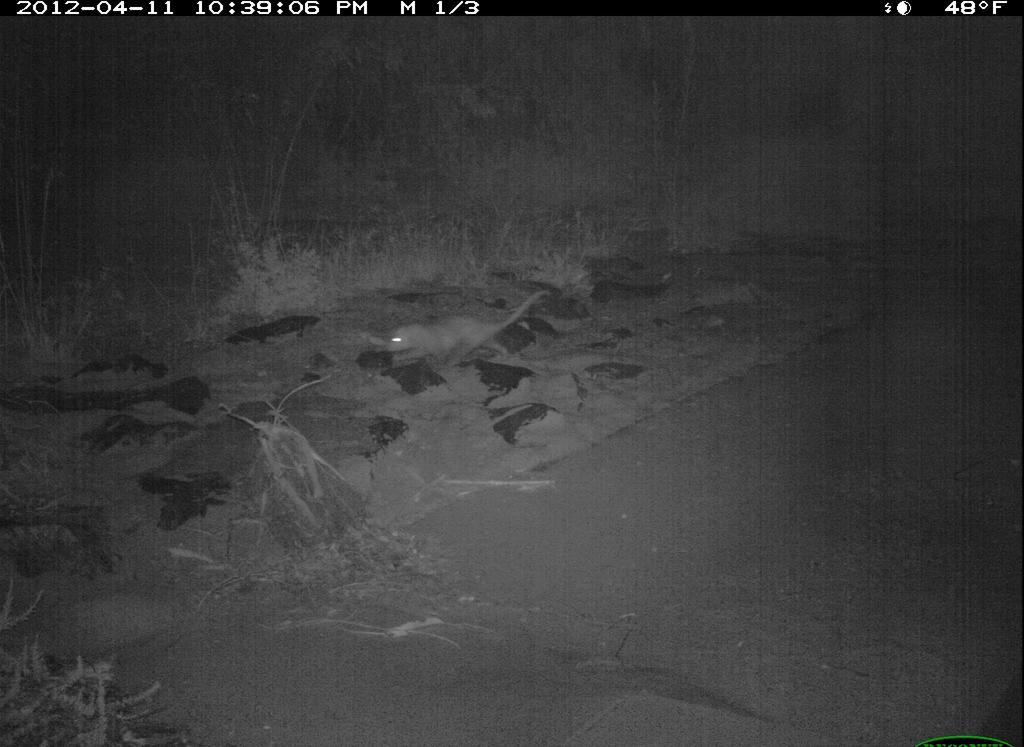opossum: (363, 276, 564, 377)
